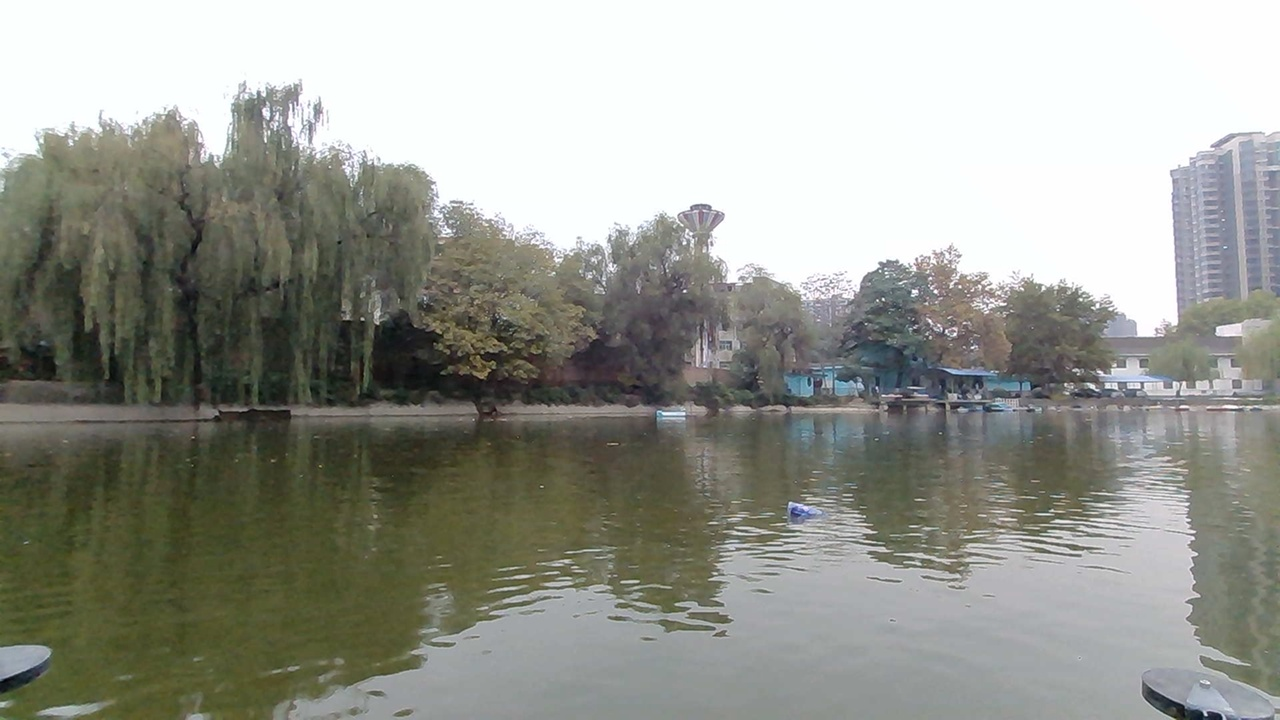bottle: (783, 497, 828, 531)
